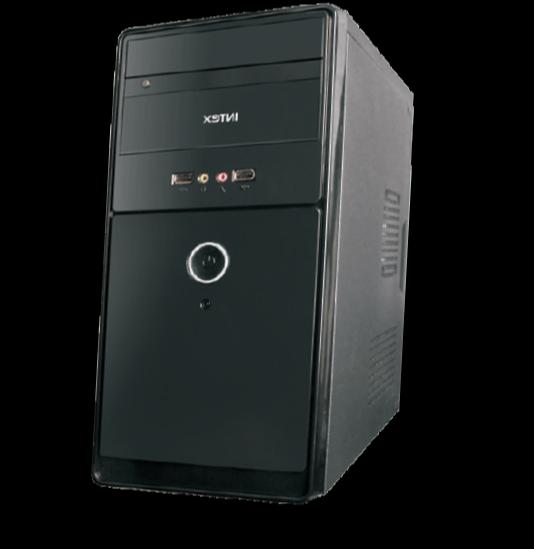pc: (86, 2, 418, 512)
